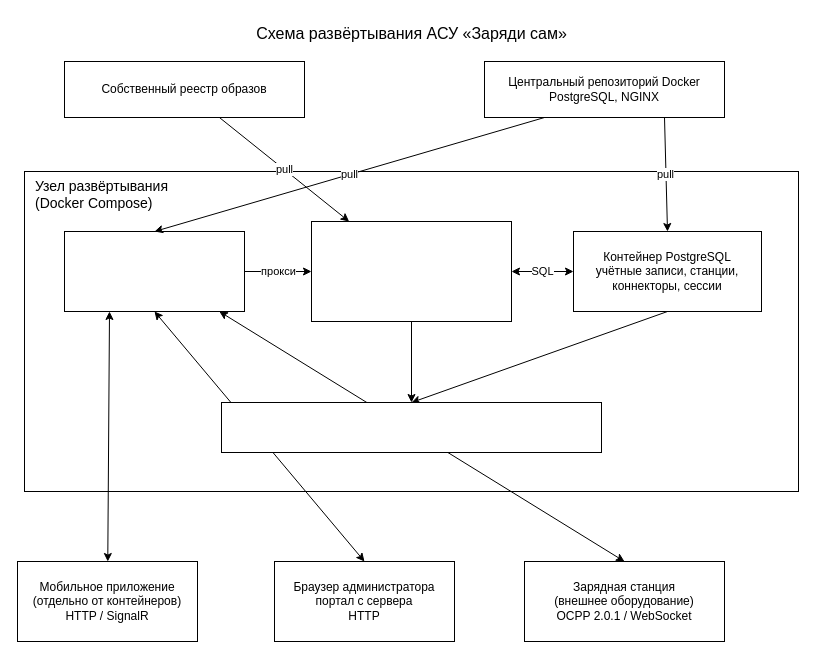
Some shapes in this 816 by 659 pixel diagram are drawn without their labels. Here are the shapes that lost their labels. From the top down, the centre of each, then its label:
At (154,271): "Контейнер NGINX внешние соединения проксирование".
At (411,271): "Контейнер сервера ChargingServer.Server HTTP API, SignalR, OCPP статика портала".
At (411,427): "Тома Docker: данные PostgreSQL, журнал OCPP".
